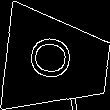O_E: (30, 37, 83, 86)
